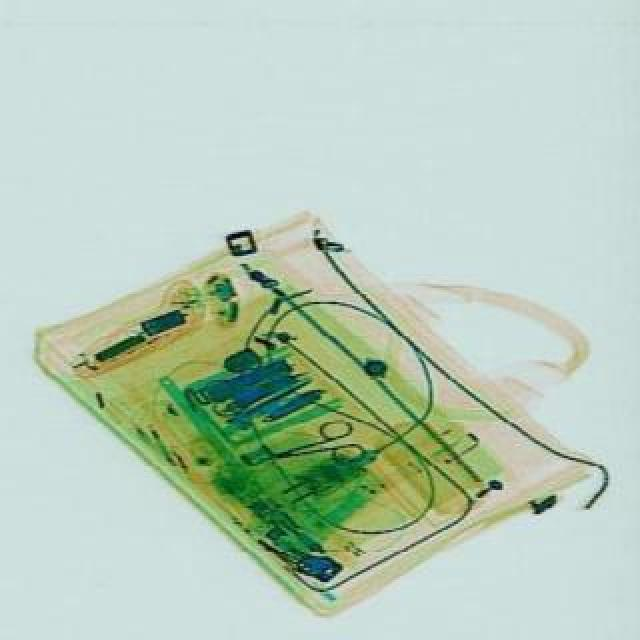pliers: (268, 414, 374, 480)
